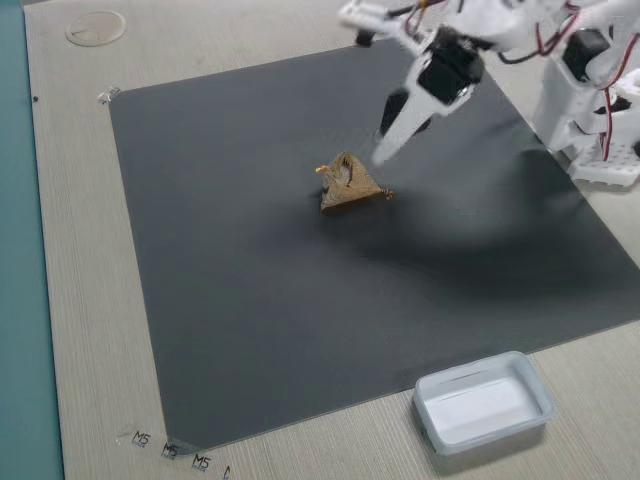objects: (351, 11, 474, 164)
